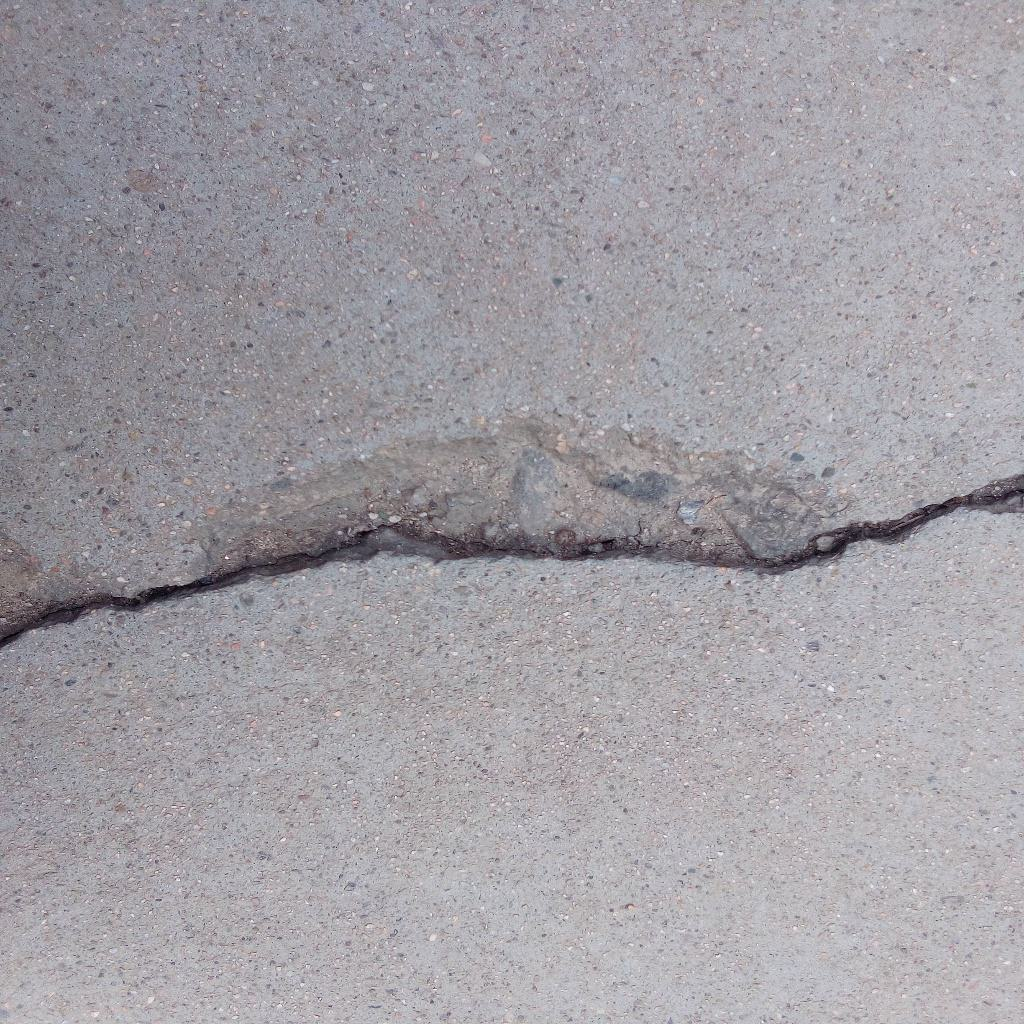Crack: (1, 472, 1024, 654)
Spalling: (197, 410, 819, 576)
